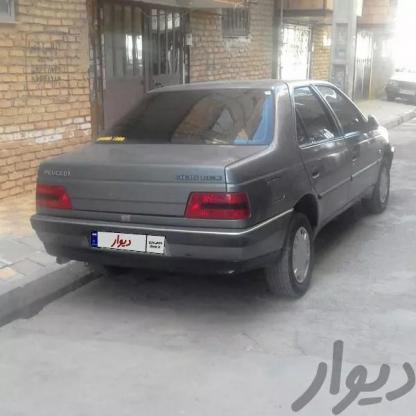Car: (24, 79, 400, 308)
